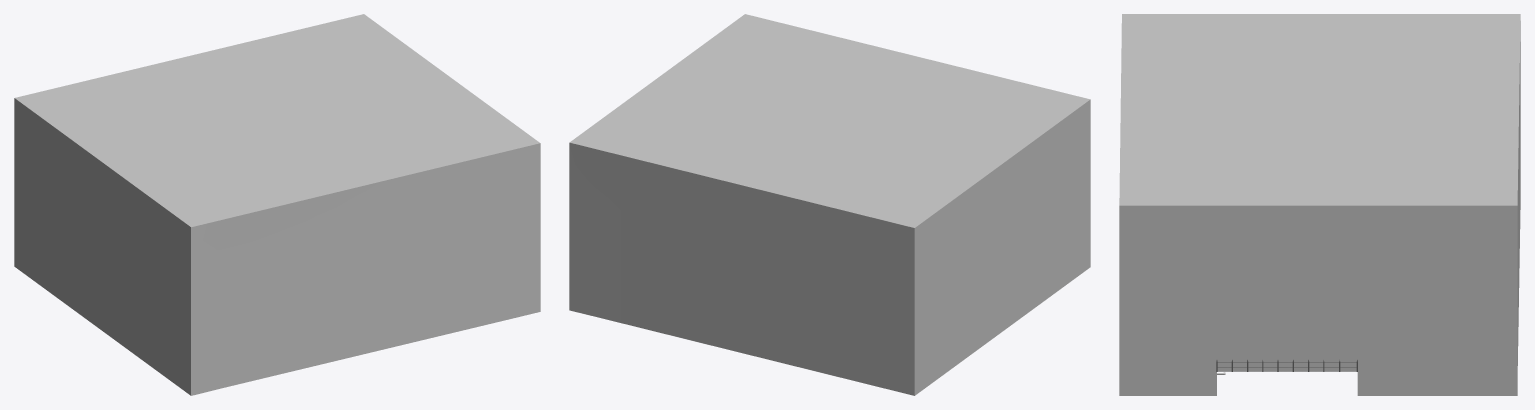
Rendered from Paradise_night_Obj.fbx.
The picture shows the model from 3 angles, left to right: view 1: azimuth 30°, elevation 25°; view 2: azimuth 150°, elevation 25°; view 3: azimuth 270°, elevation 25°; orthographic projection. The views are drawn at different scales.
Visible parts, largest first — view 1: Box001; view 2: Box001; view 3: Box001, Perimiter01.
Boxes of the visible parts, left/top/right/bottom form: Box001: left=14, top=14, right=540, bottom=395; Box001: left=569, top=14, right=1090, bottom=395; Box001: left=1119, top=14, right=1520, bottom=395; Perimiter01: left=1216, top=359, right=1357, bottom=374.
Size of the model in its own units: 178 by 82.49 by 158.
